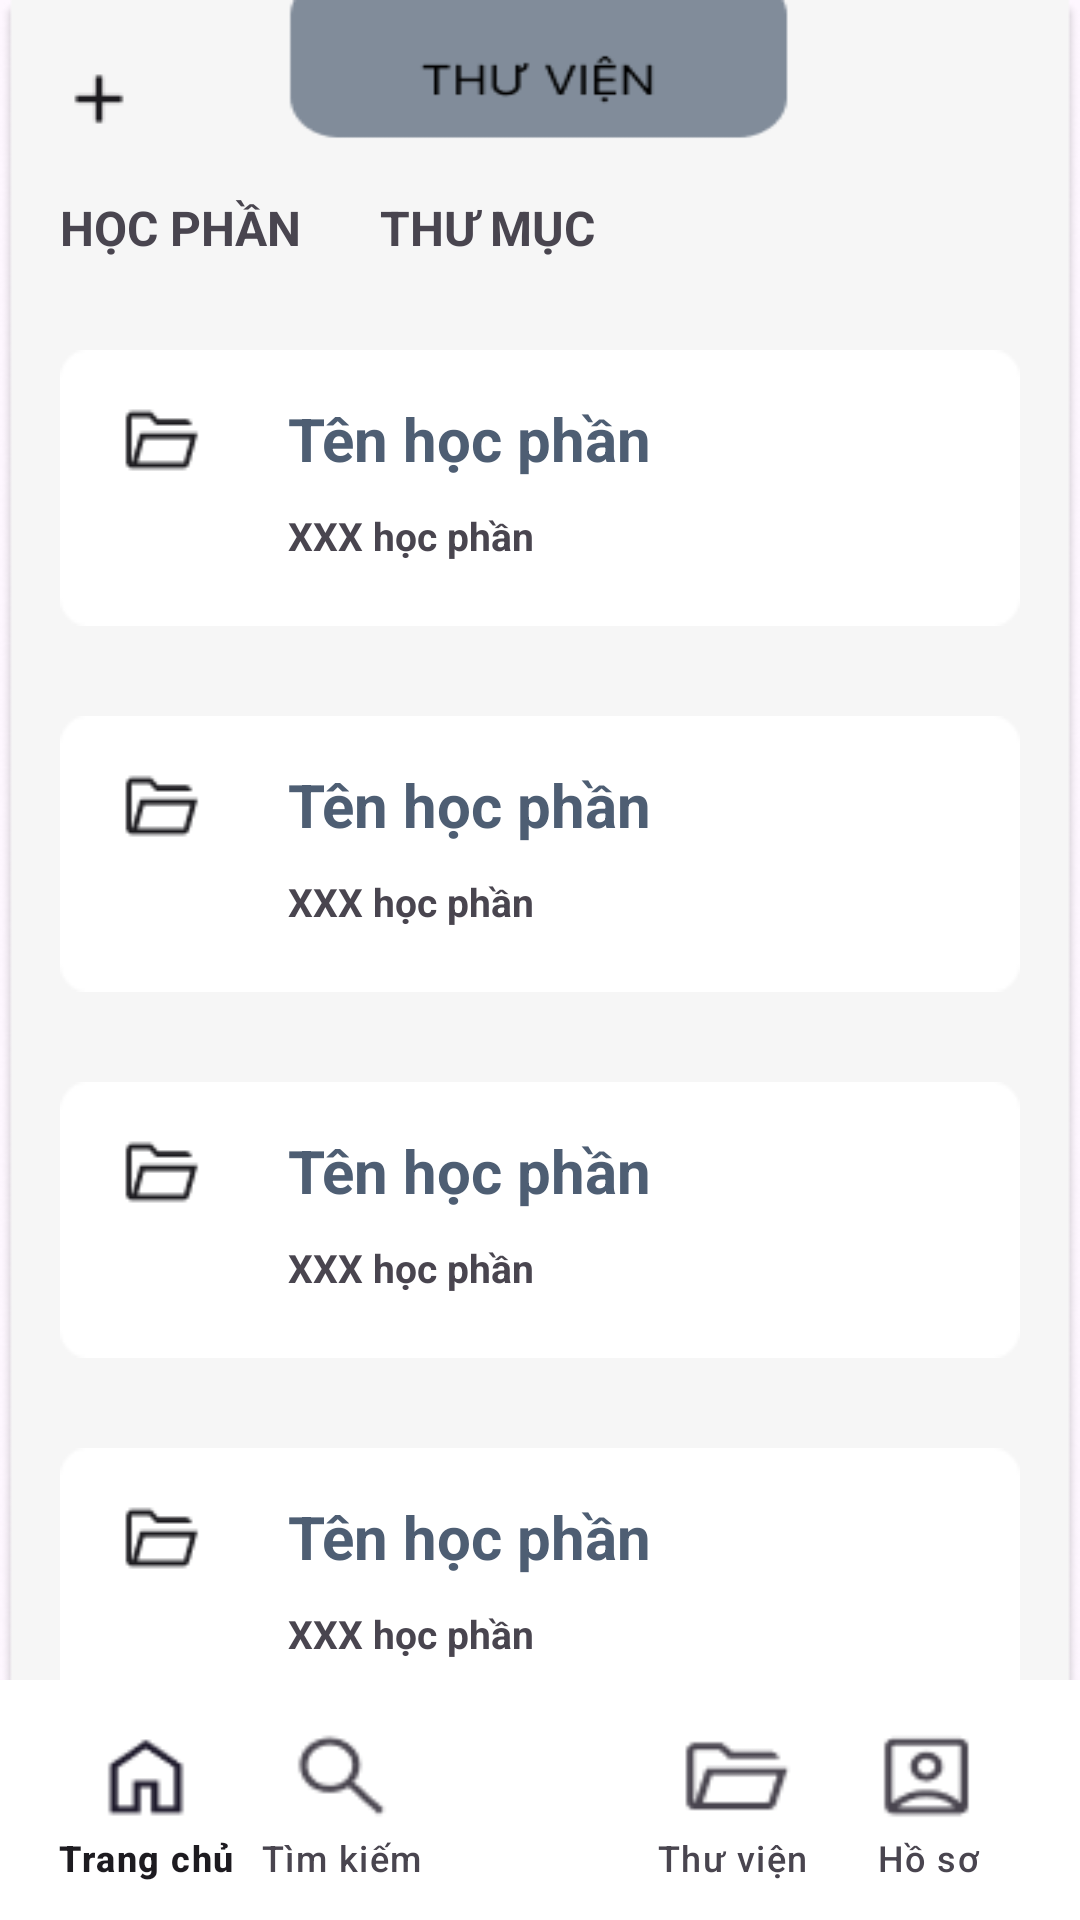

Icon bounding boxes for this 1080×1920 phone screenshot, format (x1, y1, x2, y2):
add: (74, 74, 124, 124)
